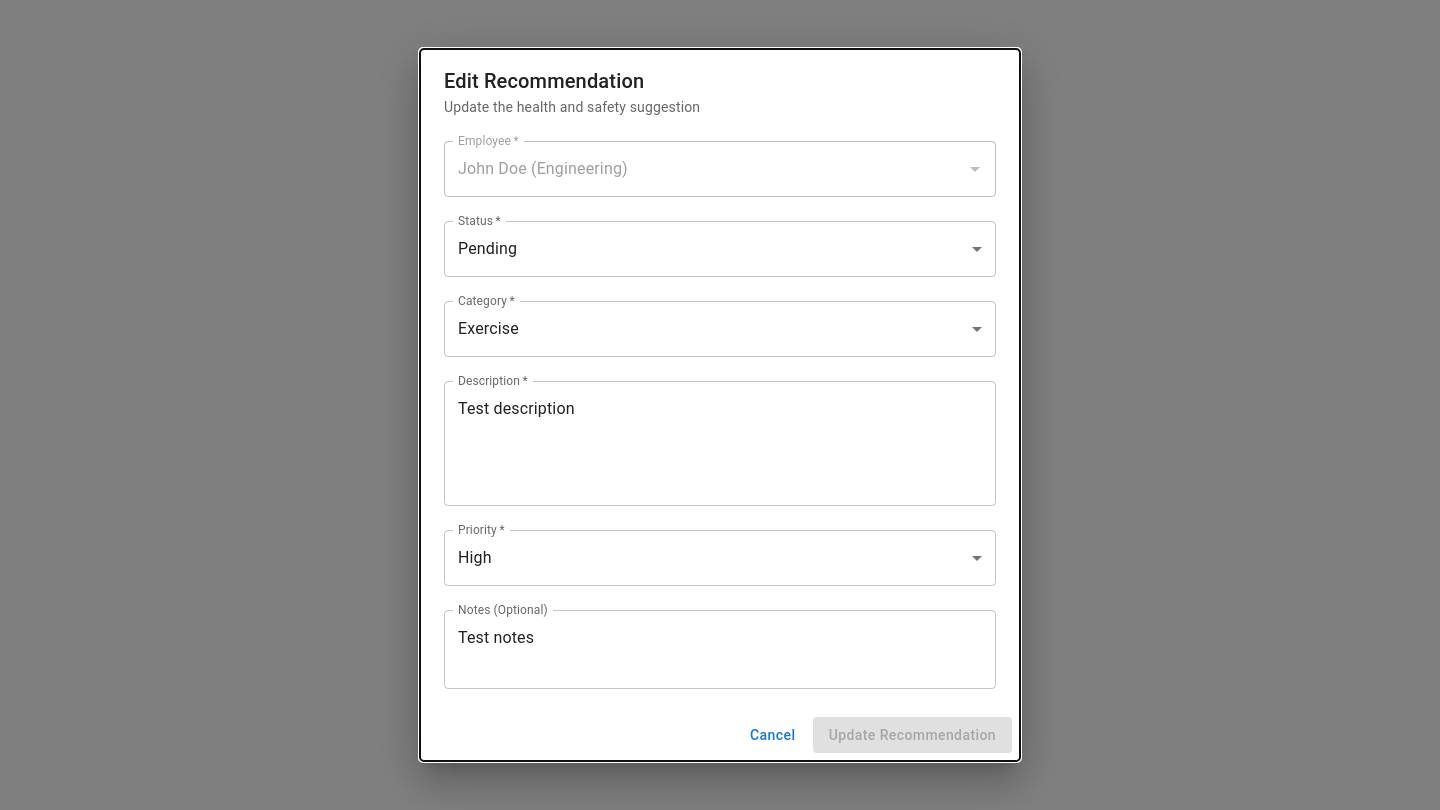
Test: SuggestionModal › Edit Mode › should enable submit button when form is dirty
Clear the text box showing "Test description": (720, 443) [458, 397, 982, 489]
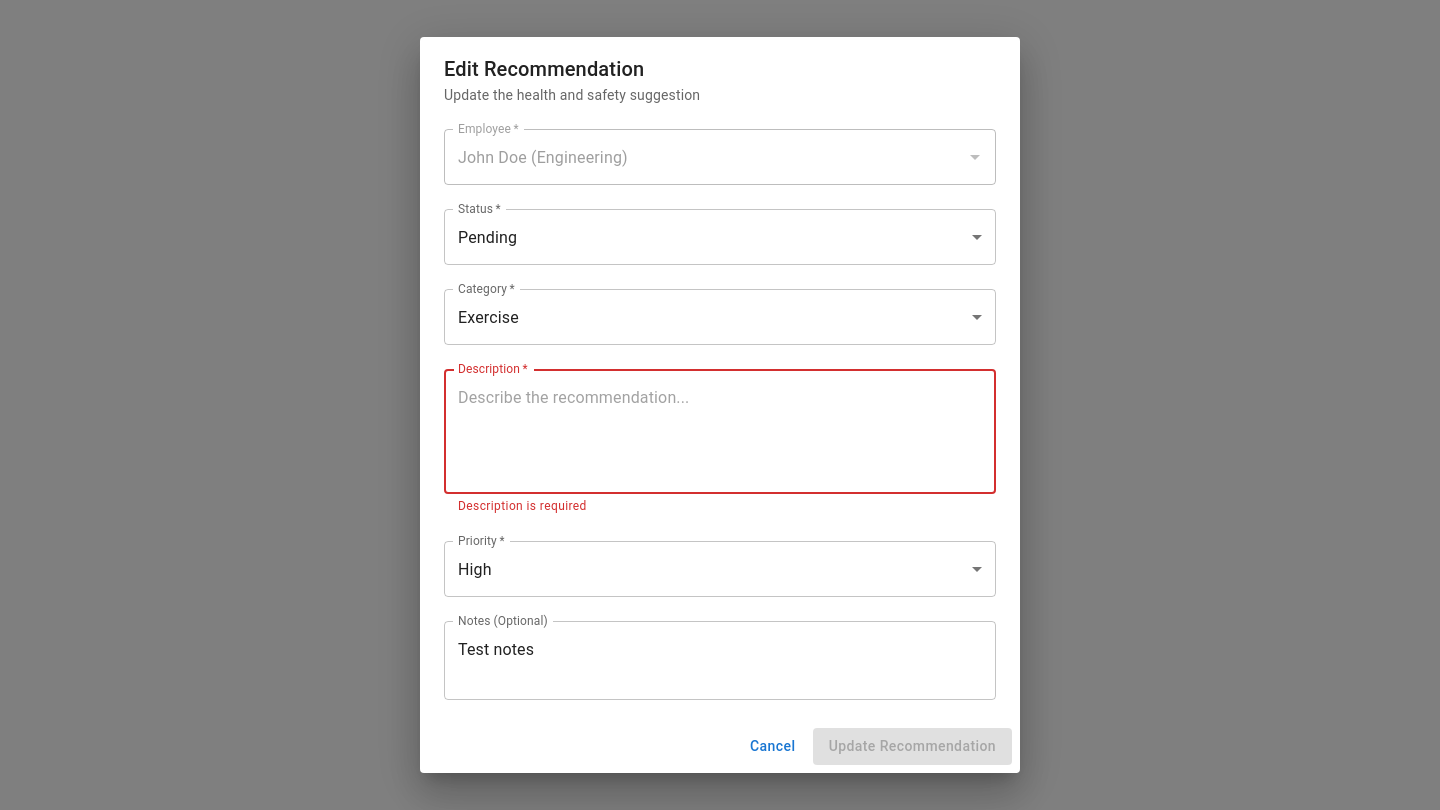
In the text box showing "Test description": (720, 432) [458, 386, 982, 478], type "Updated description here"
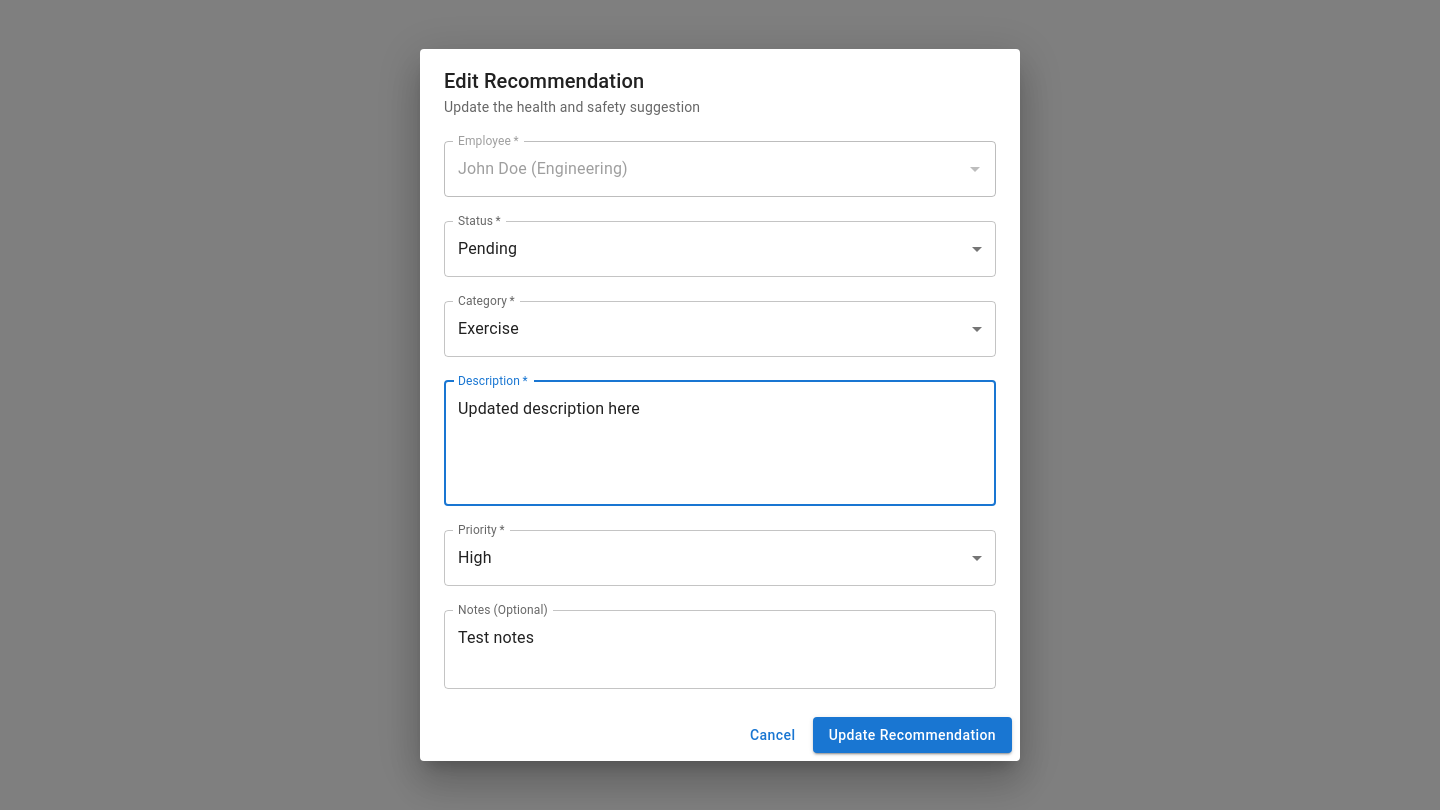
Expected: the button "Update Recommendation" is enabled, [813, 717, 1012, 753]
